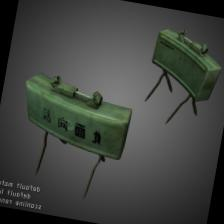MOH-50: (7, 76, 140, 180), (142, 27, 224, 118)
